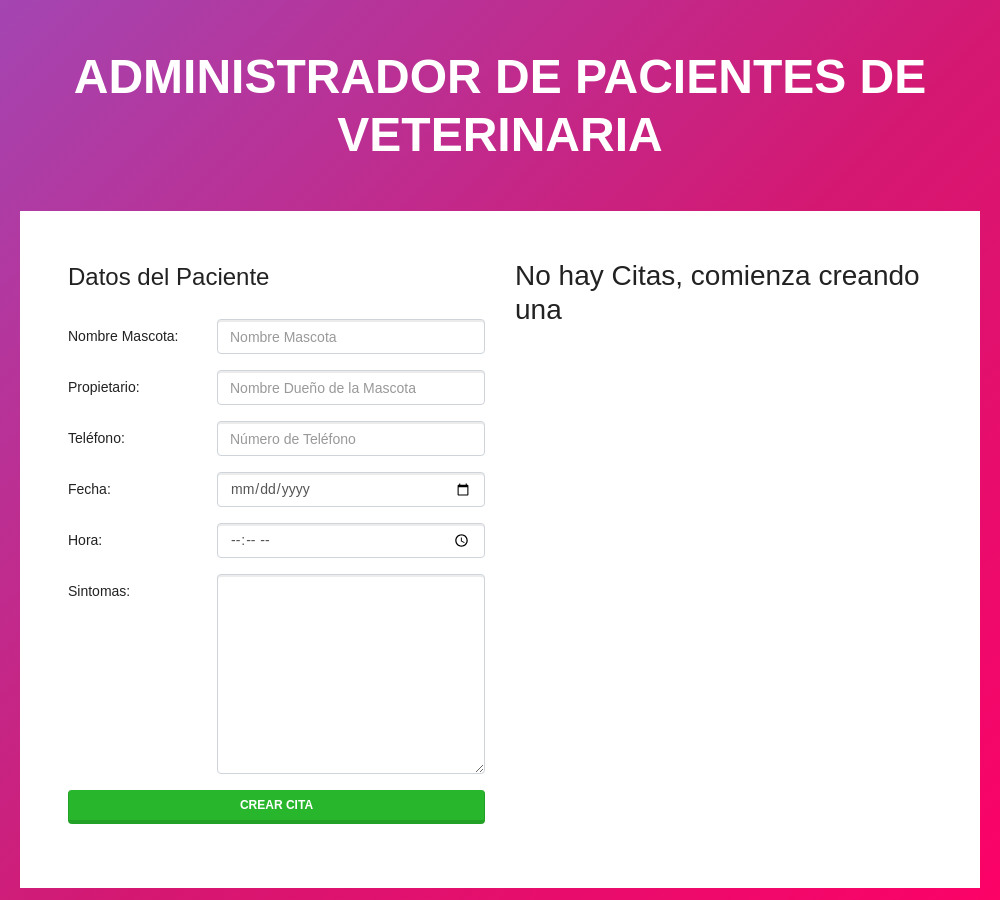
Llena los campos para una nueva cita y la muestra › campos nueva cita
Type "Hook" into the field with test id "mascota-input" at x=351, y=337, box 217,319 -> 485,354
Type "Daniel" into the field with test id "propietario-input" at x=351, y=388, box 217,370 -> 485,405
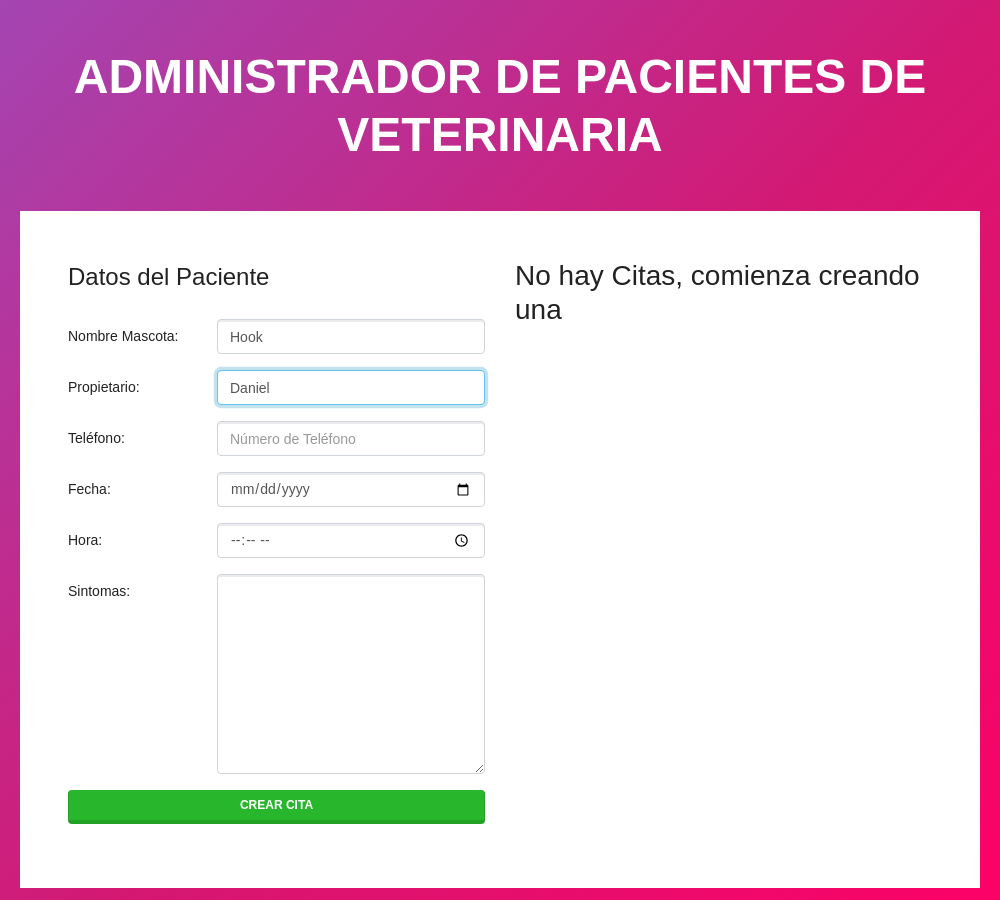
Type "312558899" into the field with test id "telefono-input" at x=351, y=439, box 217,421 -> 485,456
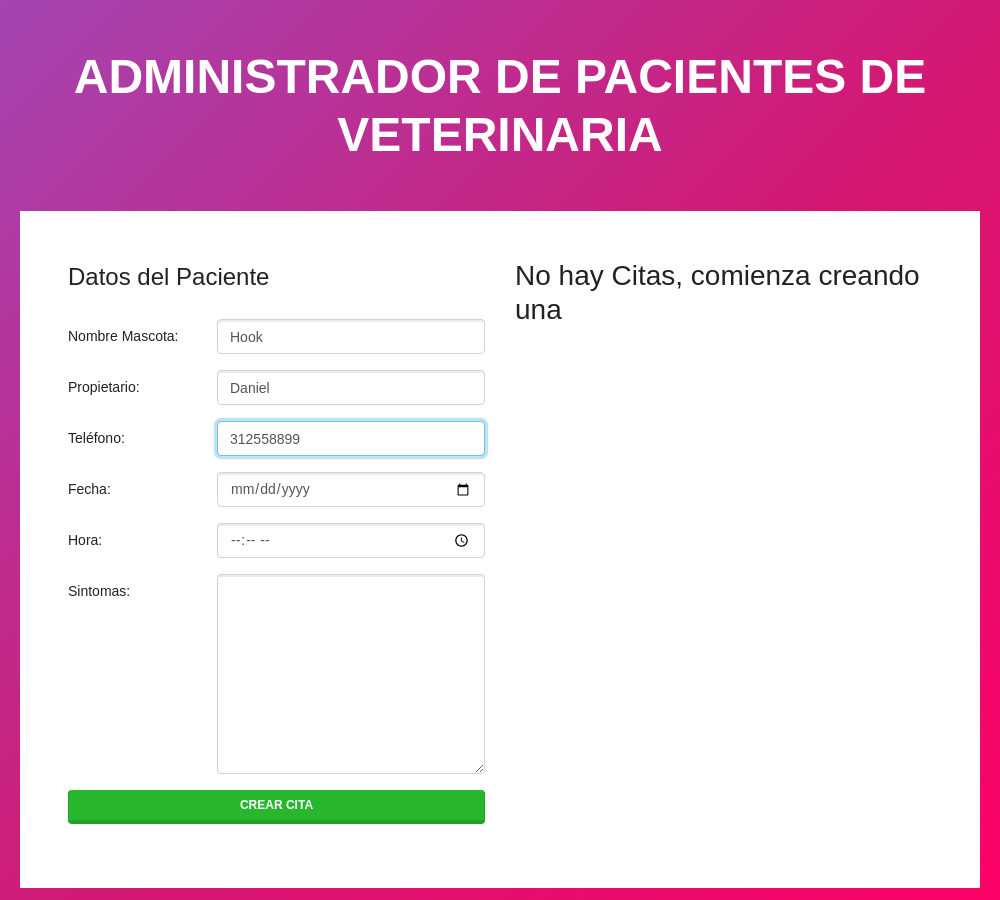
Type "2021-12-03" into the date field with test id "fecha-input" at x=351, y=490, box 217,472 -> 485,507
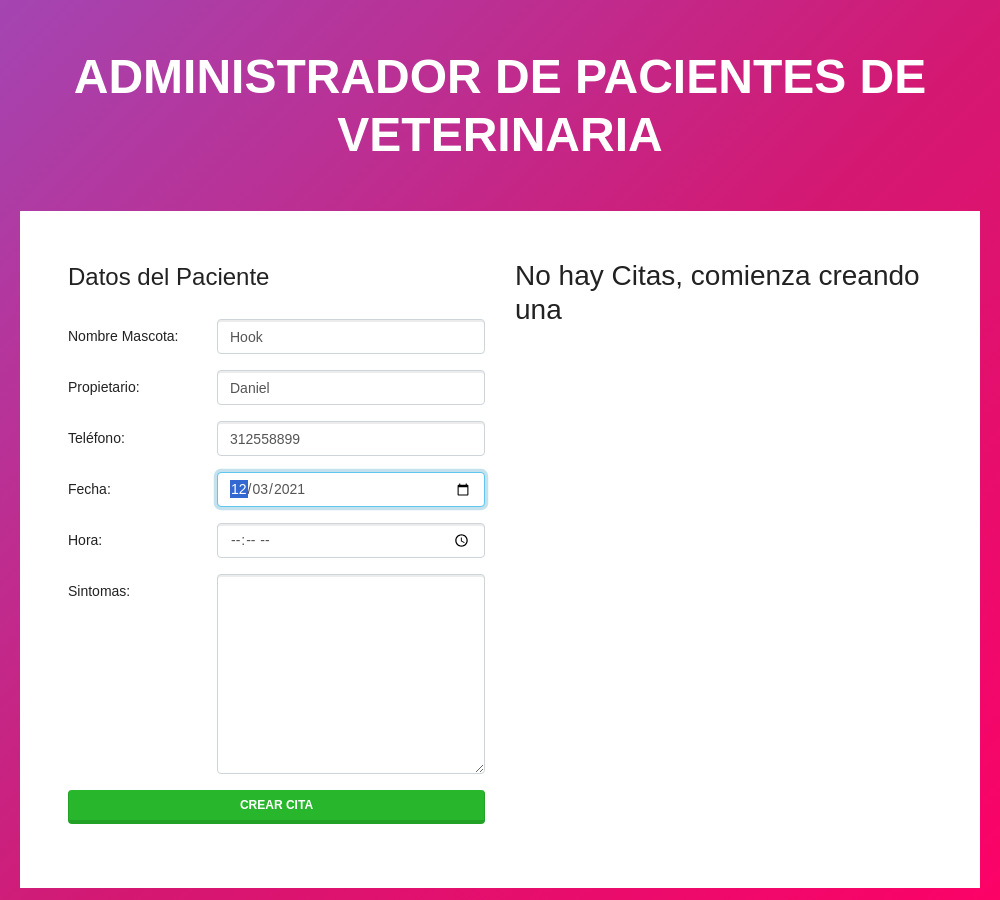
Type "12:30" into the time field with test id "hora-input" at x=351, y=541, box 217,523 -> 485,558
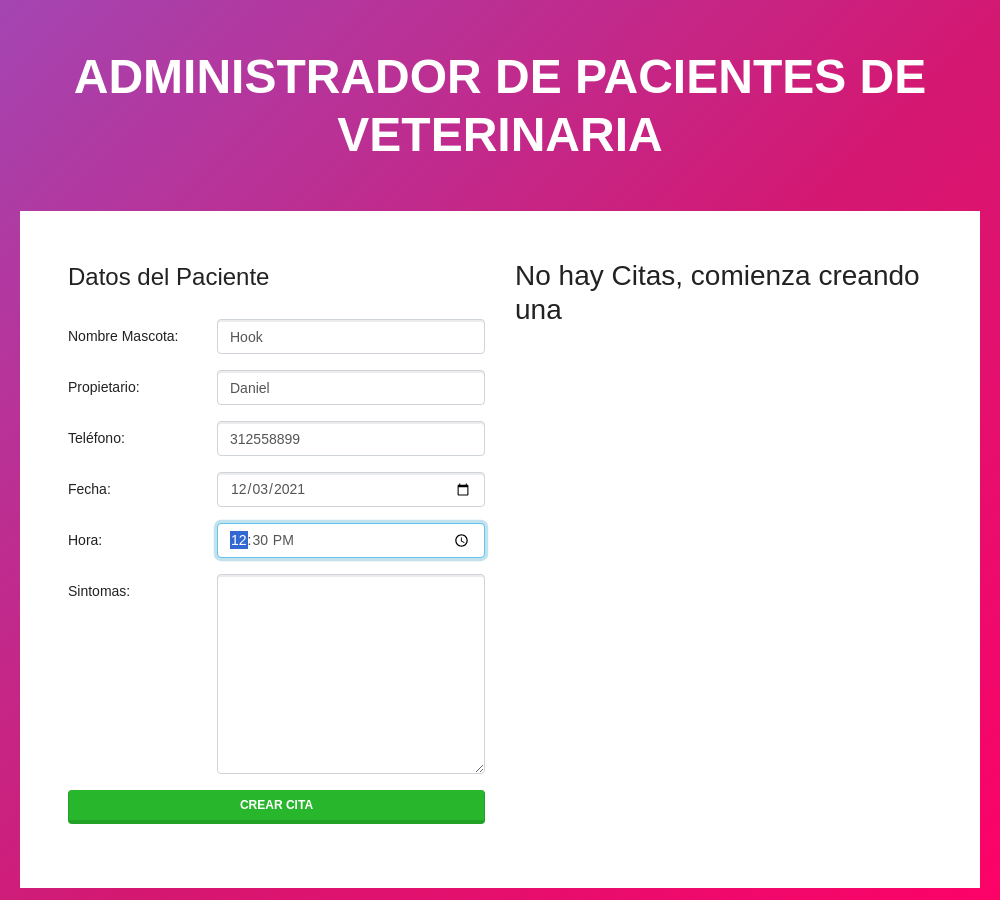
Type "Sola duerme" into the text box with test id "sintomas-textarea" at x=351, y=674, box 217,574 -> 485,774
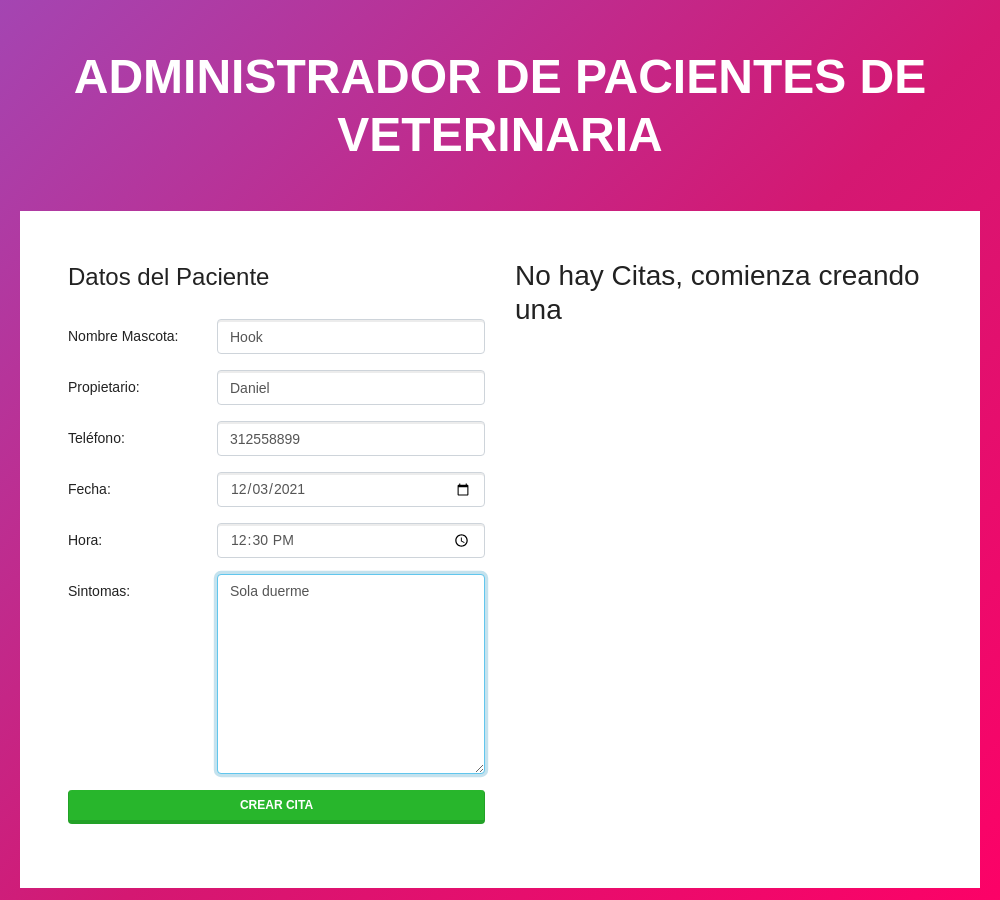
Click the button with test id "submit-cita" at x=277, y=807, box 68,790 -> 485,824
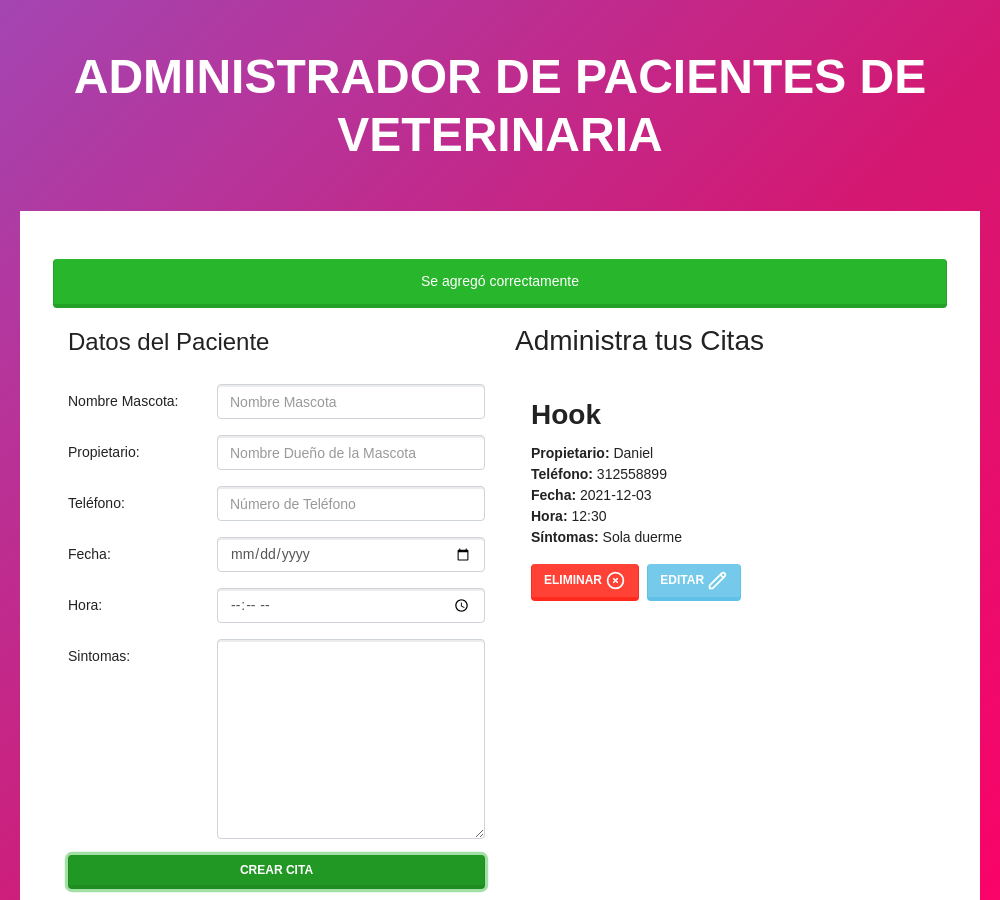
Result: the heading with test id "citas-heading" reads "Administra tus Citas" at 515,325 -> 764,356
Result: the text with test id "alerta" reads "Se agregó correctamente" at 53,259 -> 947,308
